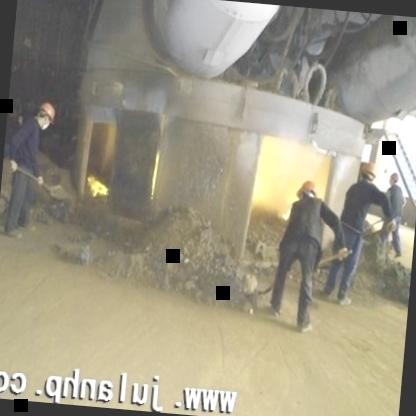helmet: (32, 97, 62, 135), (354, 158, 382, 190), (294, 177, 321, 208), (386, 170, 402, 191)
